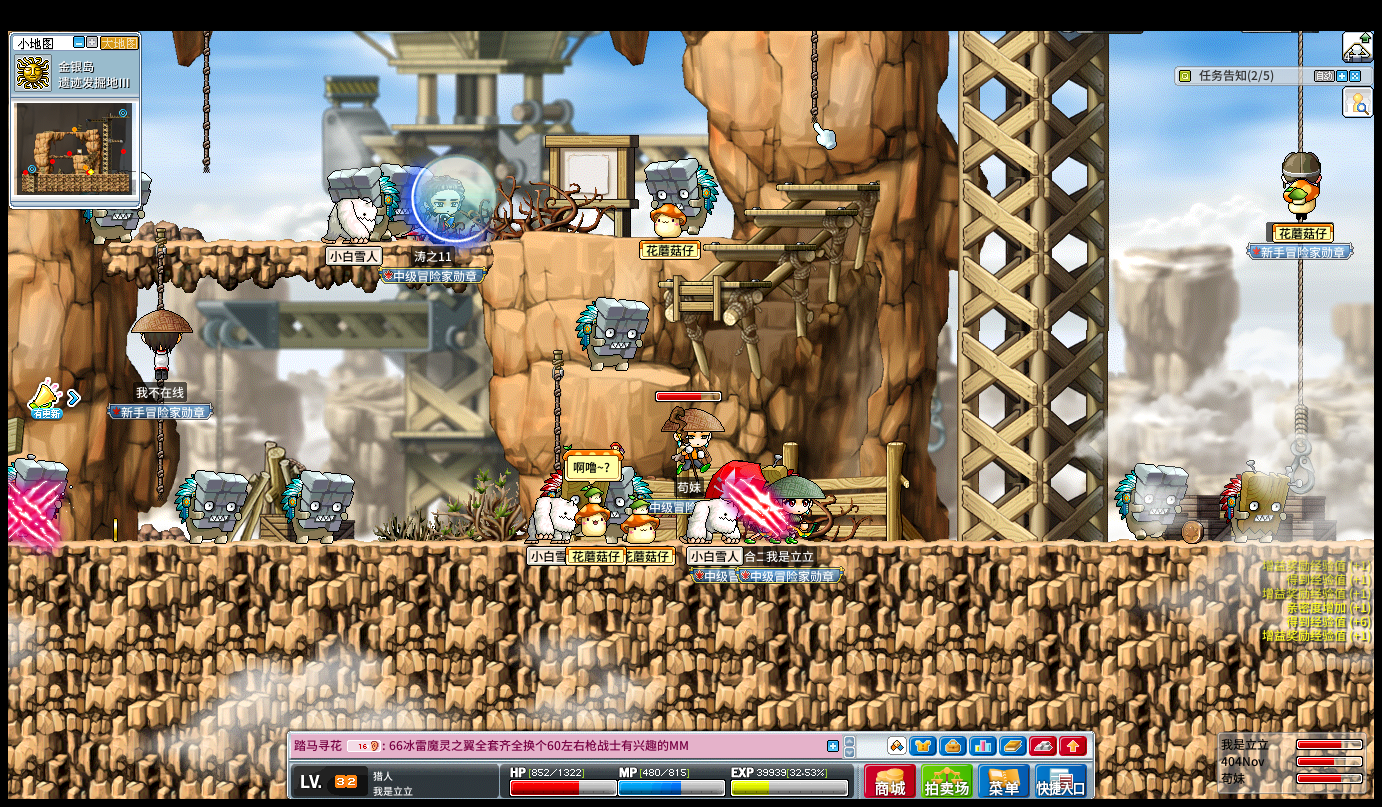floor: (8, 538, 1373, 548), (107, 238, 488, 249), (631, 365, 693, 386), (618, 235, 743, 242), (703, 243, 815, 250), (744, 209, 858, 215), (658, 281, 772, 287), (776, 184, 880, 190)
monster: (1220, 460, 1303, 542), (1114, 463, 1189, 540), (575, 297, 651, 371), (175, 470, 249, 544), (282, 471, 355, 544), (7, 455, 68, 538), (644, 158, 719, 205), (326, 167, 401, 199), (83, 210, 146, 244)
rope: (202, 31, 211, 173), (552, 350, 562, 469), (155, 228, 166, 309), (1297, 259, 1302, 405), (156, 420, 165, 501), (810, 30, 817, 123), (1297, 30, 1302, 151), (1294, 405, 1307, 437)
